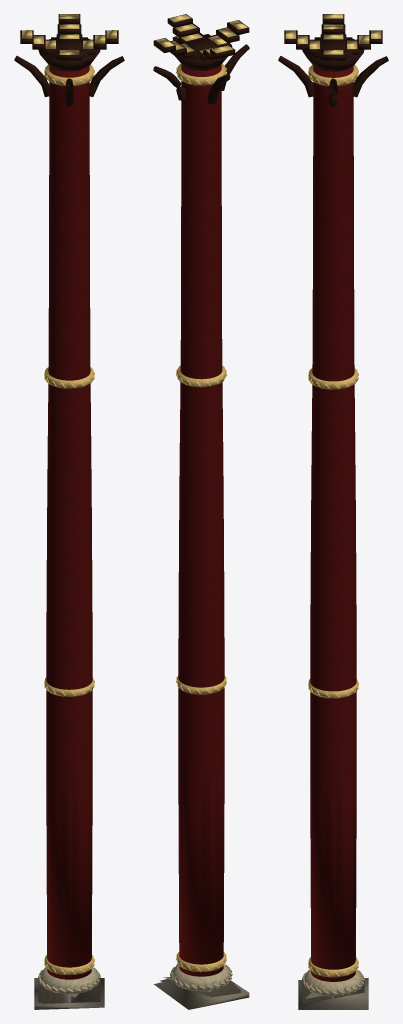
3 renders of one model, left to right at view 1: azimuth 90°, elevation 25°; view 2: azimuth 210°, elevation 25°; view 3: azimuth 270°, elevation 25°, orthographic.
Parts seen in each view (by area): view 1: vb-sanctuary-giant-column__Lacquer - imperial oxblood, vb-sanctuary-giant-column__Lim wood - deep umber, vb-sanctuary-giant-column__Antique gilded bronze, vb-sanctuary-giant-column__Gold leaf, vb-sanctuary-giant-column__Granite - warm grey, vb-sanctuary-giant-column__Carved stone - pale; view 2: vb-sanctuary-giant-column__Lacquer - imperial oxblood, vb-sanctuary-giant-column__Lim wood - deep umber, vb-sanctuary-giant-column__Antique gilded bronze, vb-sanctuary-giant-column__Granite - warm grey, vb-sanctuary-giant-column__Gold leaf, vb-sanctuary-giant-column__Carved stone - pale; view 3: vb-sanctuary-giant-column__Lacquer - imperial oxblood, vb-sanctuary-giant-column__Lim wood - deep umber, vb-sanctuary-giant-column__Antique gilded bronze, vb-sanctuary-giant-column__Gold leaf, vb-sanctuary-giant-column__Granite - warm grey, vb-sanctuary-giant-column__Carved stone - pale.
Boxes of the visible parts, x1=… form: vb-sanctuary-giant-column__Lacquer - imperial oxblood: x1=46, y1=66, x2=92, y2=979; vb-sanctuary-giant-column__Lim wood - deep umber: x1=14, y1=14, x2=124, y2=106; vb-sanctuary-giant-column__Antique gilded bronze: x1=45, y1=64, x2=93, y2=974; vb-sanctuary-giant-column__Gold leaf: x1=22, y1=14, x2=116, y2=974; vb-sanctuary-giant-column__Granite - warm grey: x1=34, y1=975, x2=104, y2=1009; vb-sanctuary-giant-column__Carved stone - pale: x1=38, y1=967, x2=100, y2=994; vb-sanctuary-giant-column__Lacquer - imperial oxblood: x1=178, y1=64, x2=224, y2=976; vb-sanctuary-giant-column__Lim wood - deep umber: x1=153, y1=14, x2=249, y2=104; vb-sanctuary-giant-column__Antique gilded bronze: x1=176, y1=63, x2=226, y2=972; vb-sanctuary-giant-column__Granite - warm grey: x1=154, y1=977, x2=249, y2=1009; vb-sanctuary-giant-column__Gold leaf: x1=156, y1=14, x2=247, y2=971; vb-sanctuary-giant-column__Carved stone - pale: x1=170, y1=964, x2=232, y2=991; vb-sanctuary-giant-column__Lacquer - imperial oxblood: x1=310, y1=66, x2=356, y2=981; vb-sanctuary-giant-column__Lim wood - deep umber: x1=278, y1=14, x2=388, y2=106; vb-sanctuary-giant-column__Antique gilded bronze: x1=308, y1=64, x2=358, y2=977; vb-sanctuary-giant-column__Gold leaf: x1=285, y1=14, x2=381, y2=976; vb-sanctuary-giant-column__Granite - warm grey: x1=298, y1=977, x2=368, y2=1009; vb-sanctuary-giant-column__Carved stone - pale: x1=302, y1=969, x2=364, y2=996.
Size of the model in its own units: 10.63 by 102 by 10.63.
Materials: 6 (4 with a texture image).
